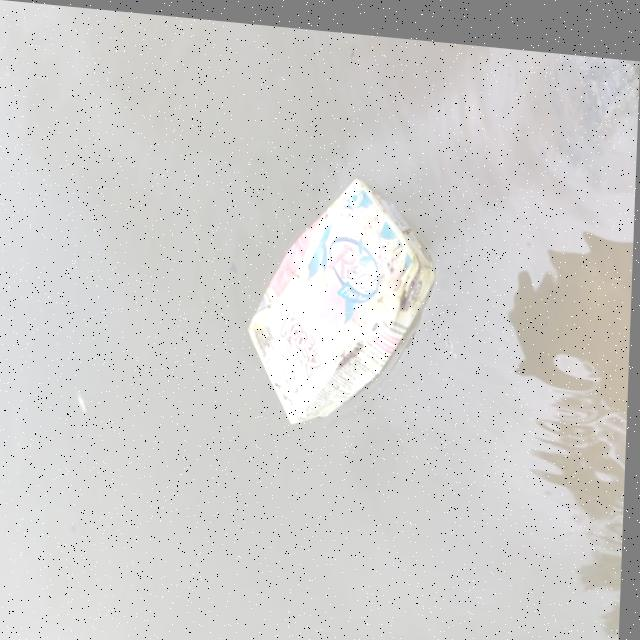paper: (240, 149, 451, 440)
